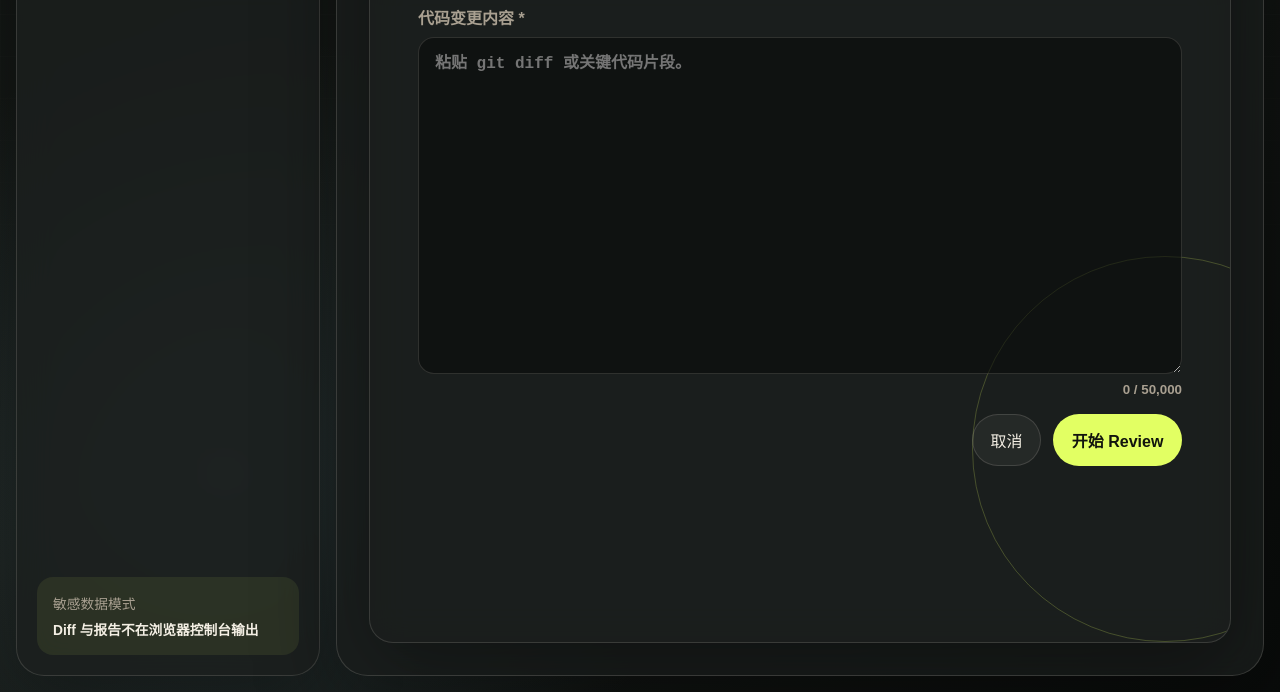
it: new Review task form › requires PR title and diff before submission
(page scrolled)
Click the button "开始 Review" at {"x": 1118, "y": 440}, box [1053,414,1182,466]
(page scrolled)
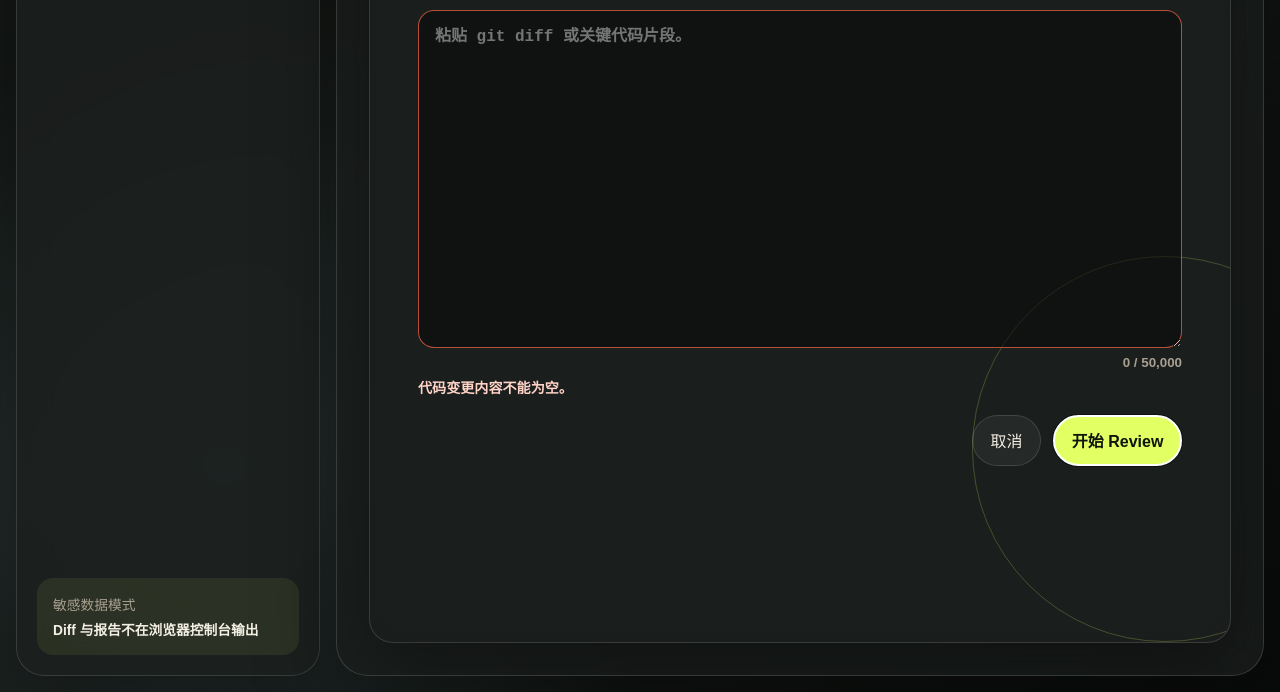
Check: the text "代码变更内容不能为空。" is shown, box [418,380,573,396]
